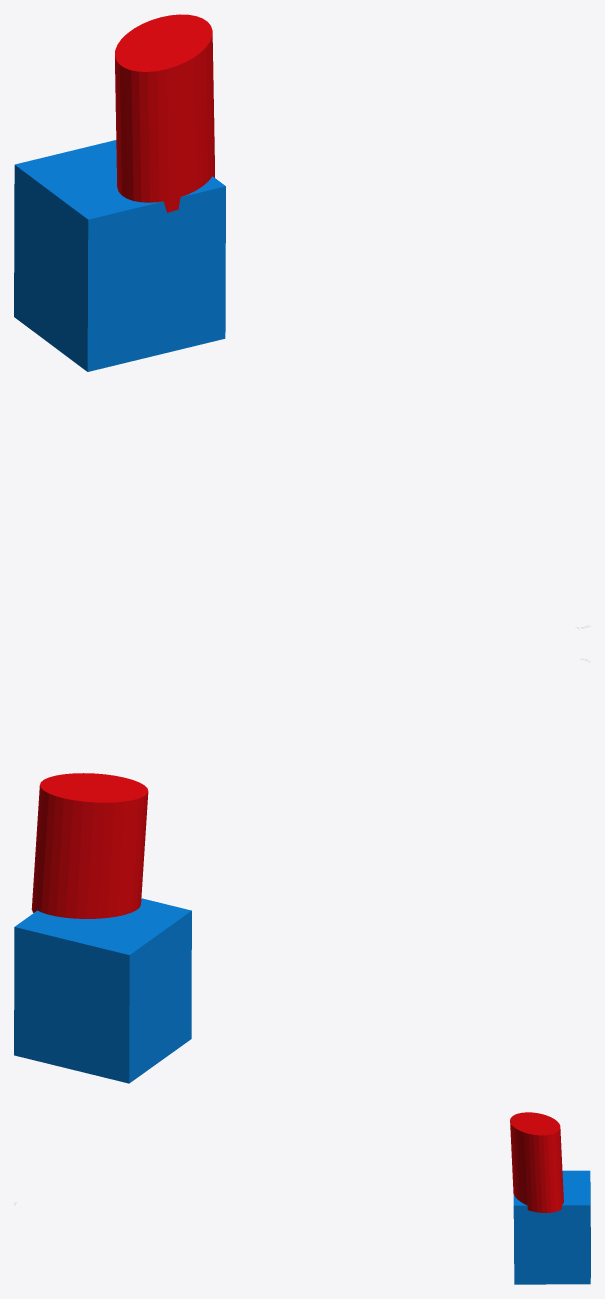
Rendered from MICHAEL LI.fbx.
The picture shows the model from 3 angles, top to bottom: view 1: azimuth 30°, elevation 25°; view 2: azimuth 150°, elevation 25°; view 3: azimuth 270°, elevation 25°; orthographic projection. The views are drawn at different scales.
Visible parts, largest first — view 1: Cube, Cylinder; view 2: Cube, Cylinder; view 3: Cube, Cylinder.
Boxes of the visible parts, x1,y1,x2,y2 form: Cube: (14,140,225,371); Cylinder: (115,14,214,212); Cube: (14,898,191,1083); Cylinder: (31,773,148,918); Cube: (513,1170,590,1284); Cylinder: (510,1112,563,1212).
Bounding box in the file's own units: 2204 × 4022 × 13825.
